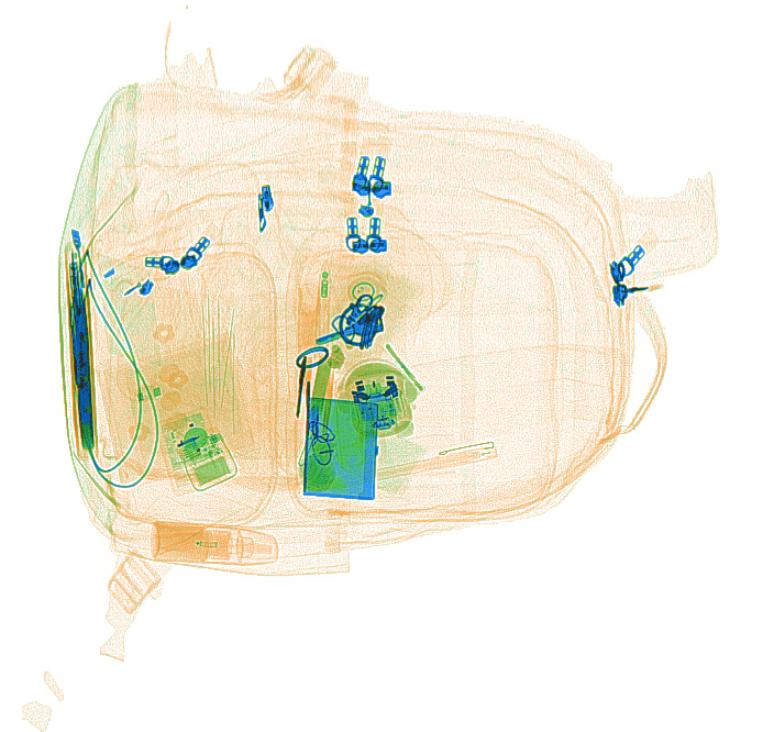plasticBottleWithaNozzle: (149, 518, 280, 567)
